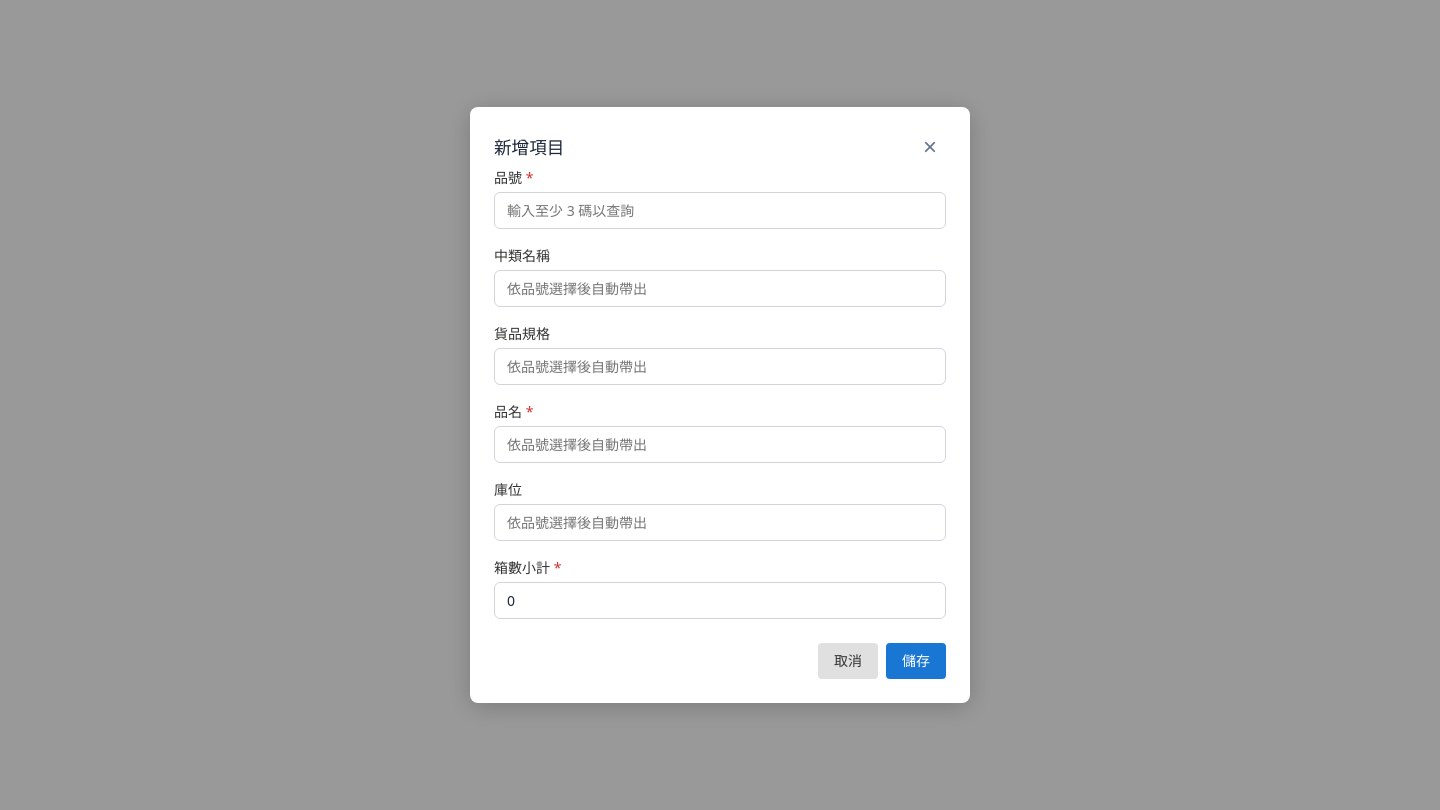
Scenario: AddItemDialog › disables inputs during submission
Type "P001" into the field labelled "品號 *".
click(720, 211); type("P001")  # box [494, 192, 946, 229]
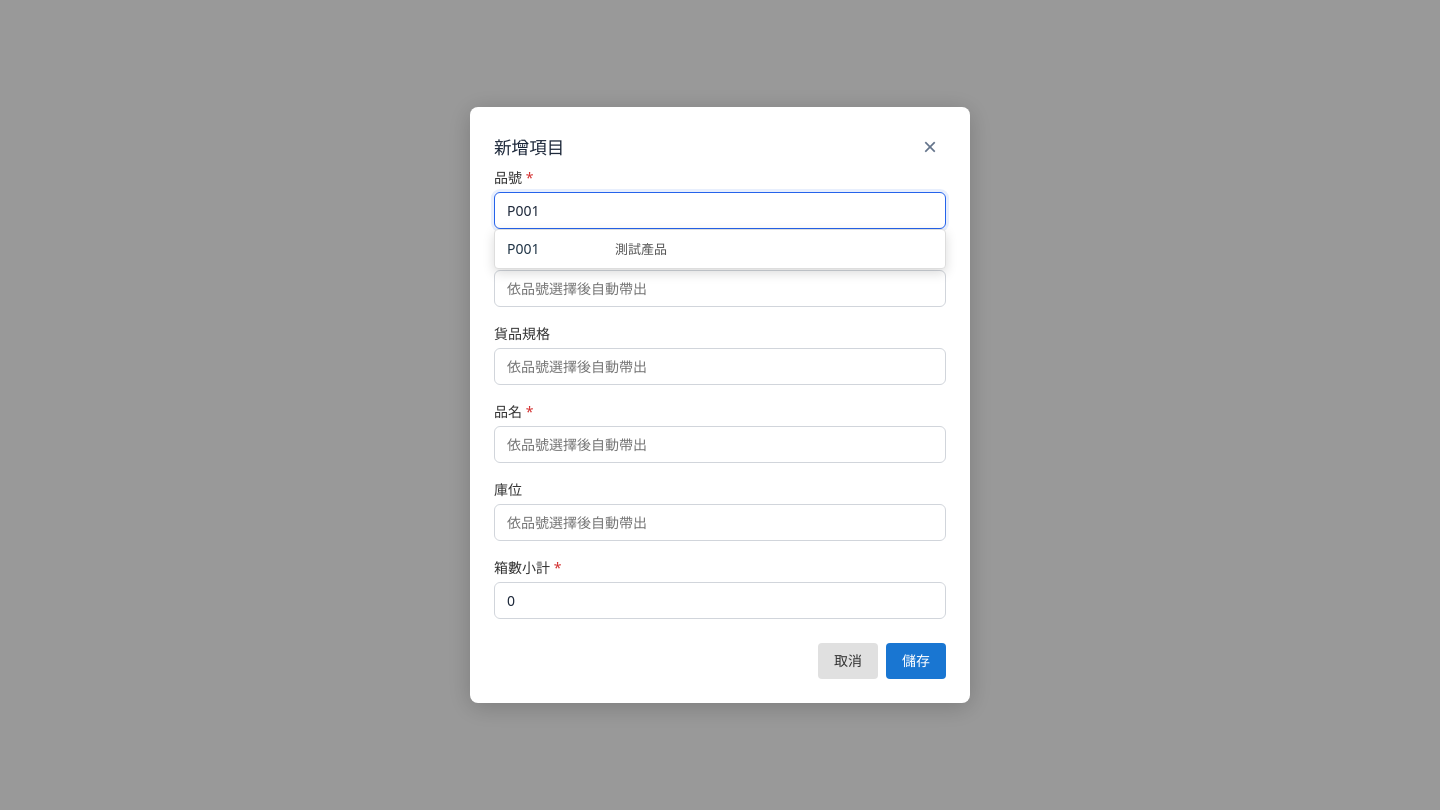
Check: the list item is shown
Click the list item.
click(523, 249)  # box [507, 239, 667, 258]
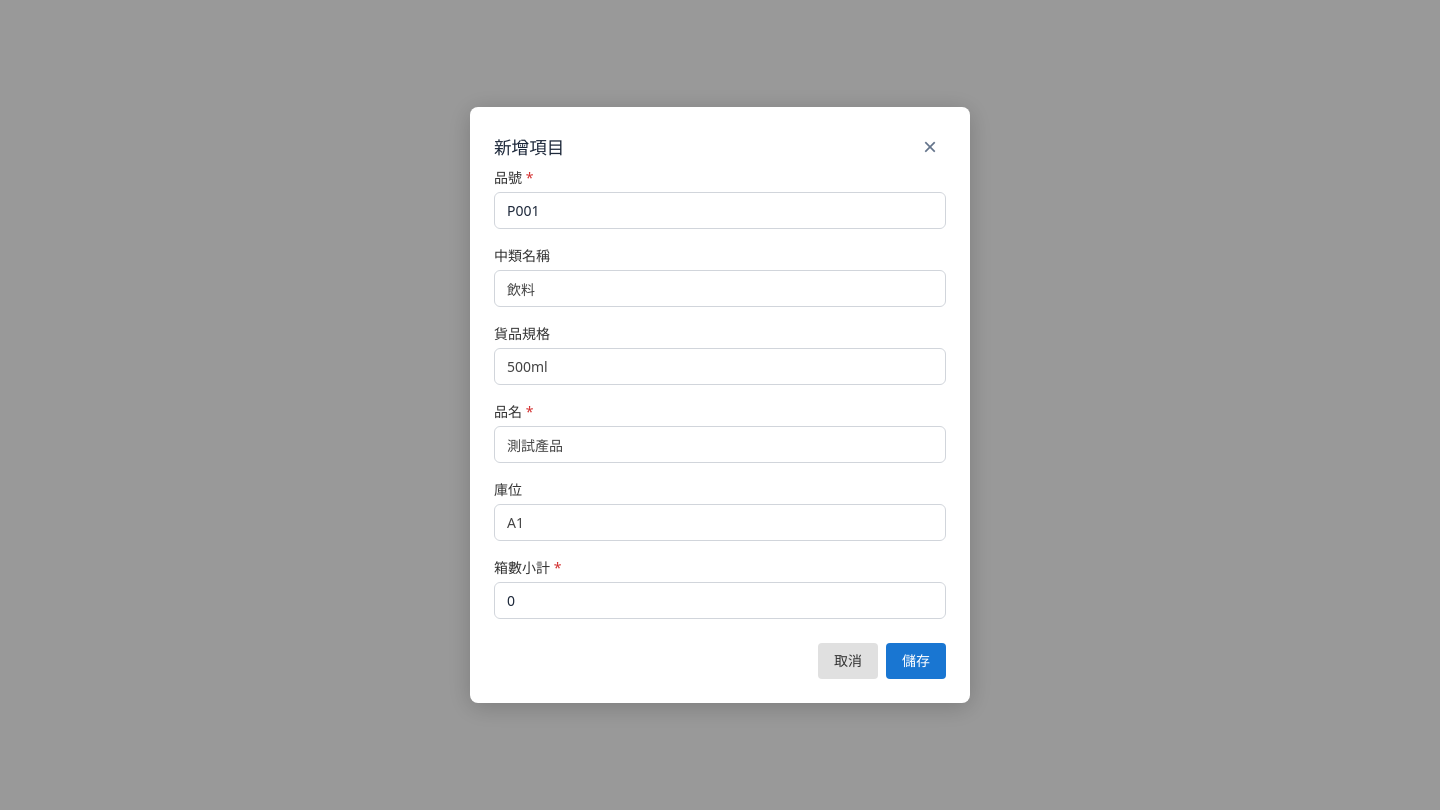
Replace the text in the number field labelled "箱數小計 *" with "100" at (720, 601), box [494, 582, 946, 619]
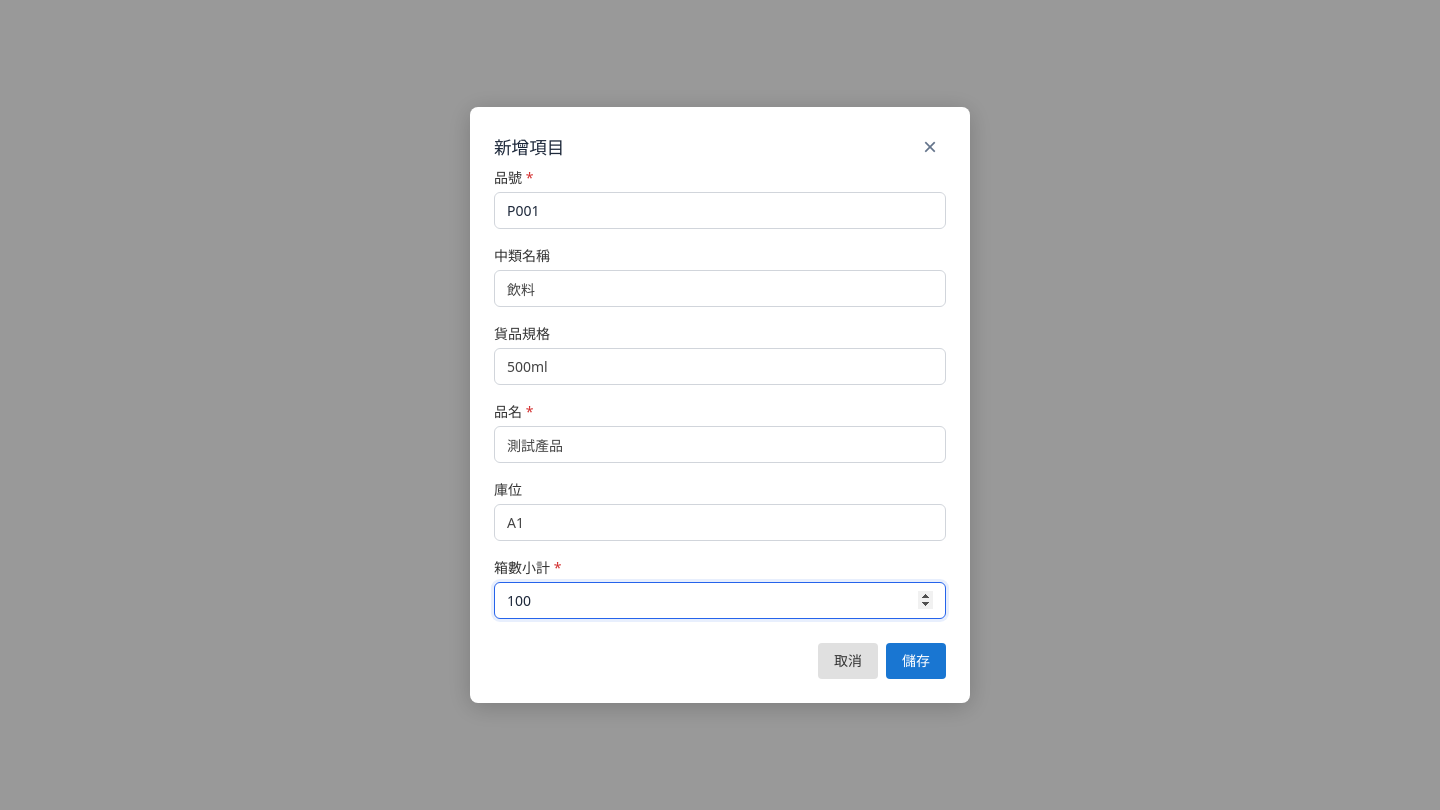
Click the button "儲存".
click(916, 661)  # box [886, 643, 946, 679]
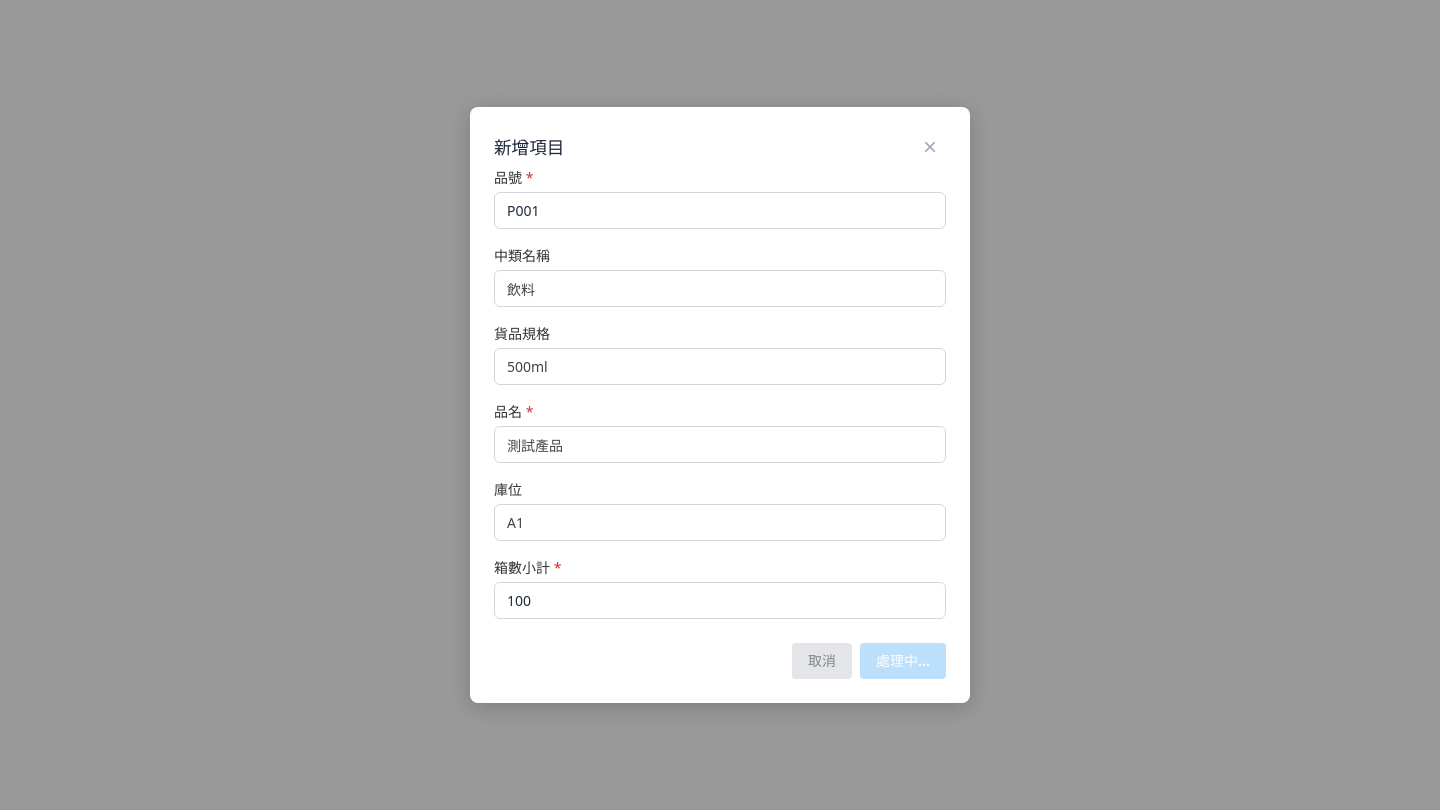
Check: the field labelled "品號 *" is disabled, box [494, 192, 946, 229]
Check: the button "處理中..." is shown, box [860, 643, 946, 679]
Check: the number field labelled "箱數小計 *" is disabled, box [494, 582, 946, 619]
